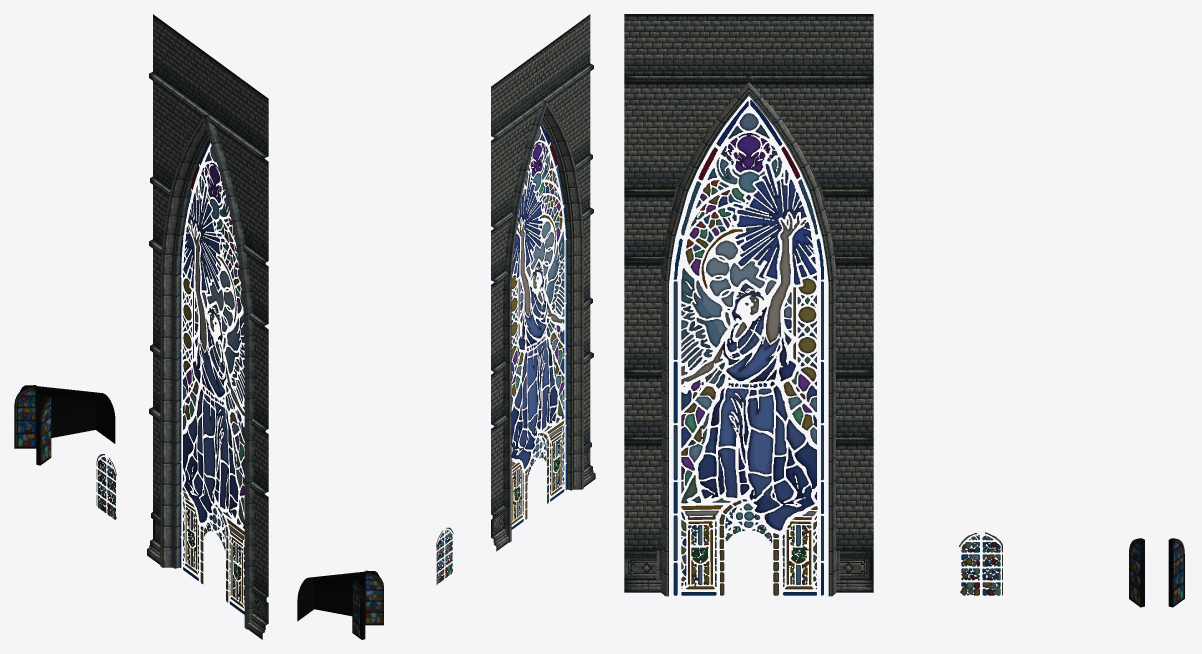
File: EnvMdrMD_Daiseidou_B_Glass_A.FBX
3 views of the same model, side by side, from view 1: azimuth 30°, elevation 25°; view 2: azimuth 150°, elevation 25°; view 3: azimuth 270°, elevation 25° (orthographic). The views are drawn at different scales.
Parts seen in each view (by area): view 1: EnvMdrMD_Daiseidou_B_Glass_A, EnvMdrMD_Daiseidou_B_Glass_A_Door_Open, EnvMdrMD_Daiseidou_B_Glass_A_Door_Close; view 2: EnvMdrMD_Daiseidou_B_Glass_A, EnvMdrMD_Daiseidou_B_Glass_A_Door_Open, EnvMdrMD_Daiseidou_B_Glass_A_Door_Close; view 3: EnvMdrMD_Daiseidou_B_Glass_A, EnvMdrMD_Daiseidou_B_Glass_A_Door_Open, EnvMdrMD_Daiseidou_B_Glass_A_Door_Close.
Boxes of the visible parts, <box> form: EnvMdrMD_Daiseidou_B_Glass_A: <box>147,14,268,639</box>; EnvMdrMD_Daiseidou_B_Glass_A_Door_Open: <box>14,385,115,465</box>; EnvMdrMD_Daiseidou_B_Glass_A_Door_Close: <box>96,454,116,519</box>; EnvMdrMD_Daiseidou_B_Glass_A: <box>491,14,595,551</box>; EnvMdrMD_Daiseidou_B_Glass_A_Door_Open: <box>297,570,383,639</box>; EnvMdrMD_Daiseidou_B_Glass_A_Door_Close: <box>436,527,453,584</box>; EnvMdrMD_Daiseidou_B_Glass_A: <box>624,14,873,596</box>; EnvMdrMD_Daiseidou_B_Glass_A_Door_Open: <box>1129,538,1184,607</box>; EnvMdrMD_Daiseidou_B_Glass_A_Door_Close: <box>959,532,1002,595</box>.
Bounding box in the file's own units: 455 × 2575 × 2261.
Materials: 4 (4 with a texture image).
